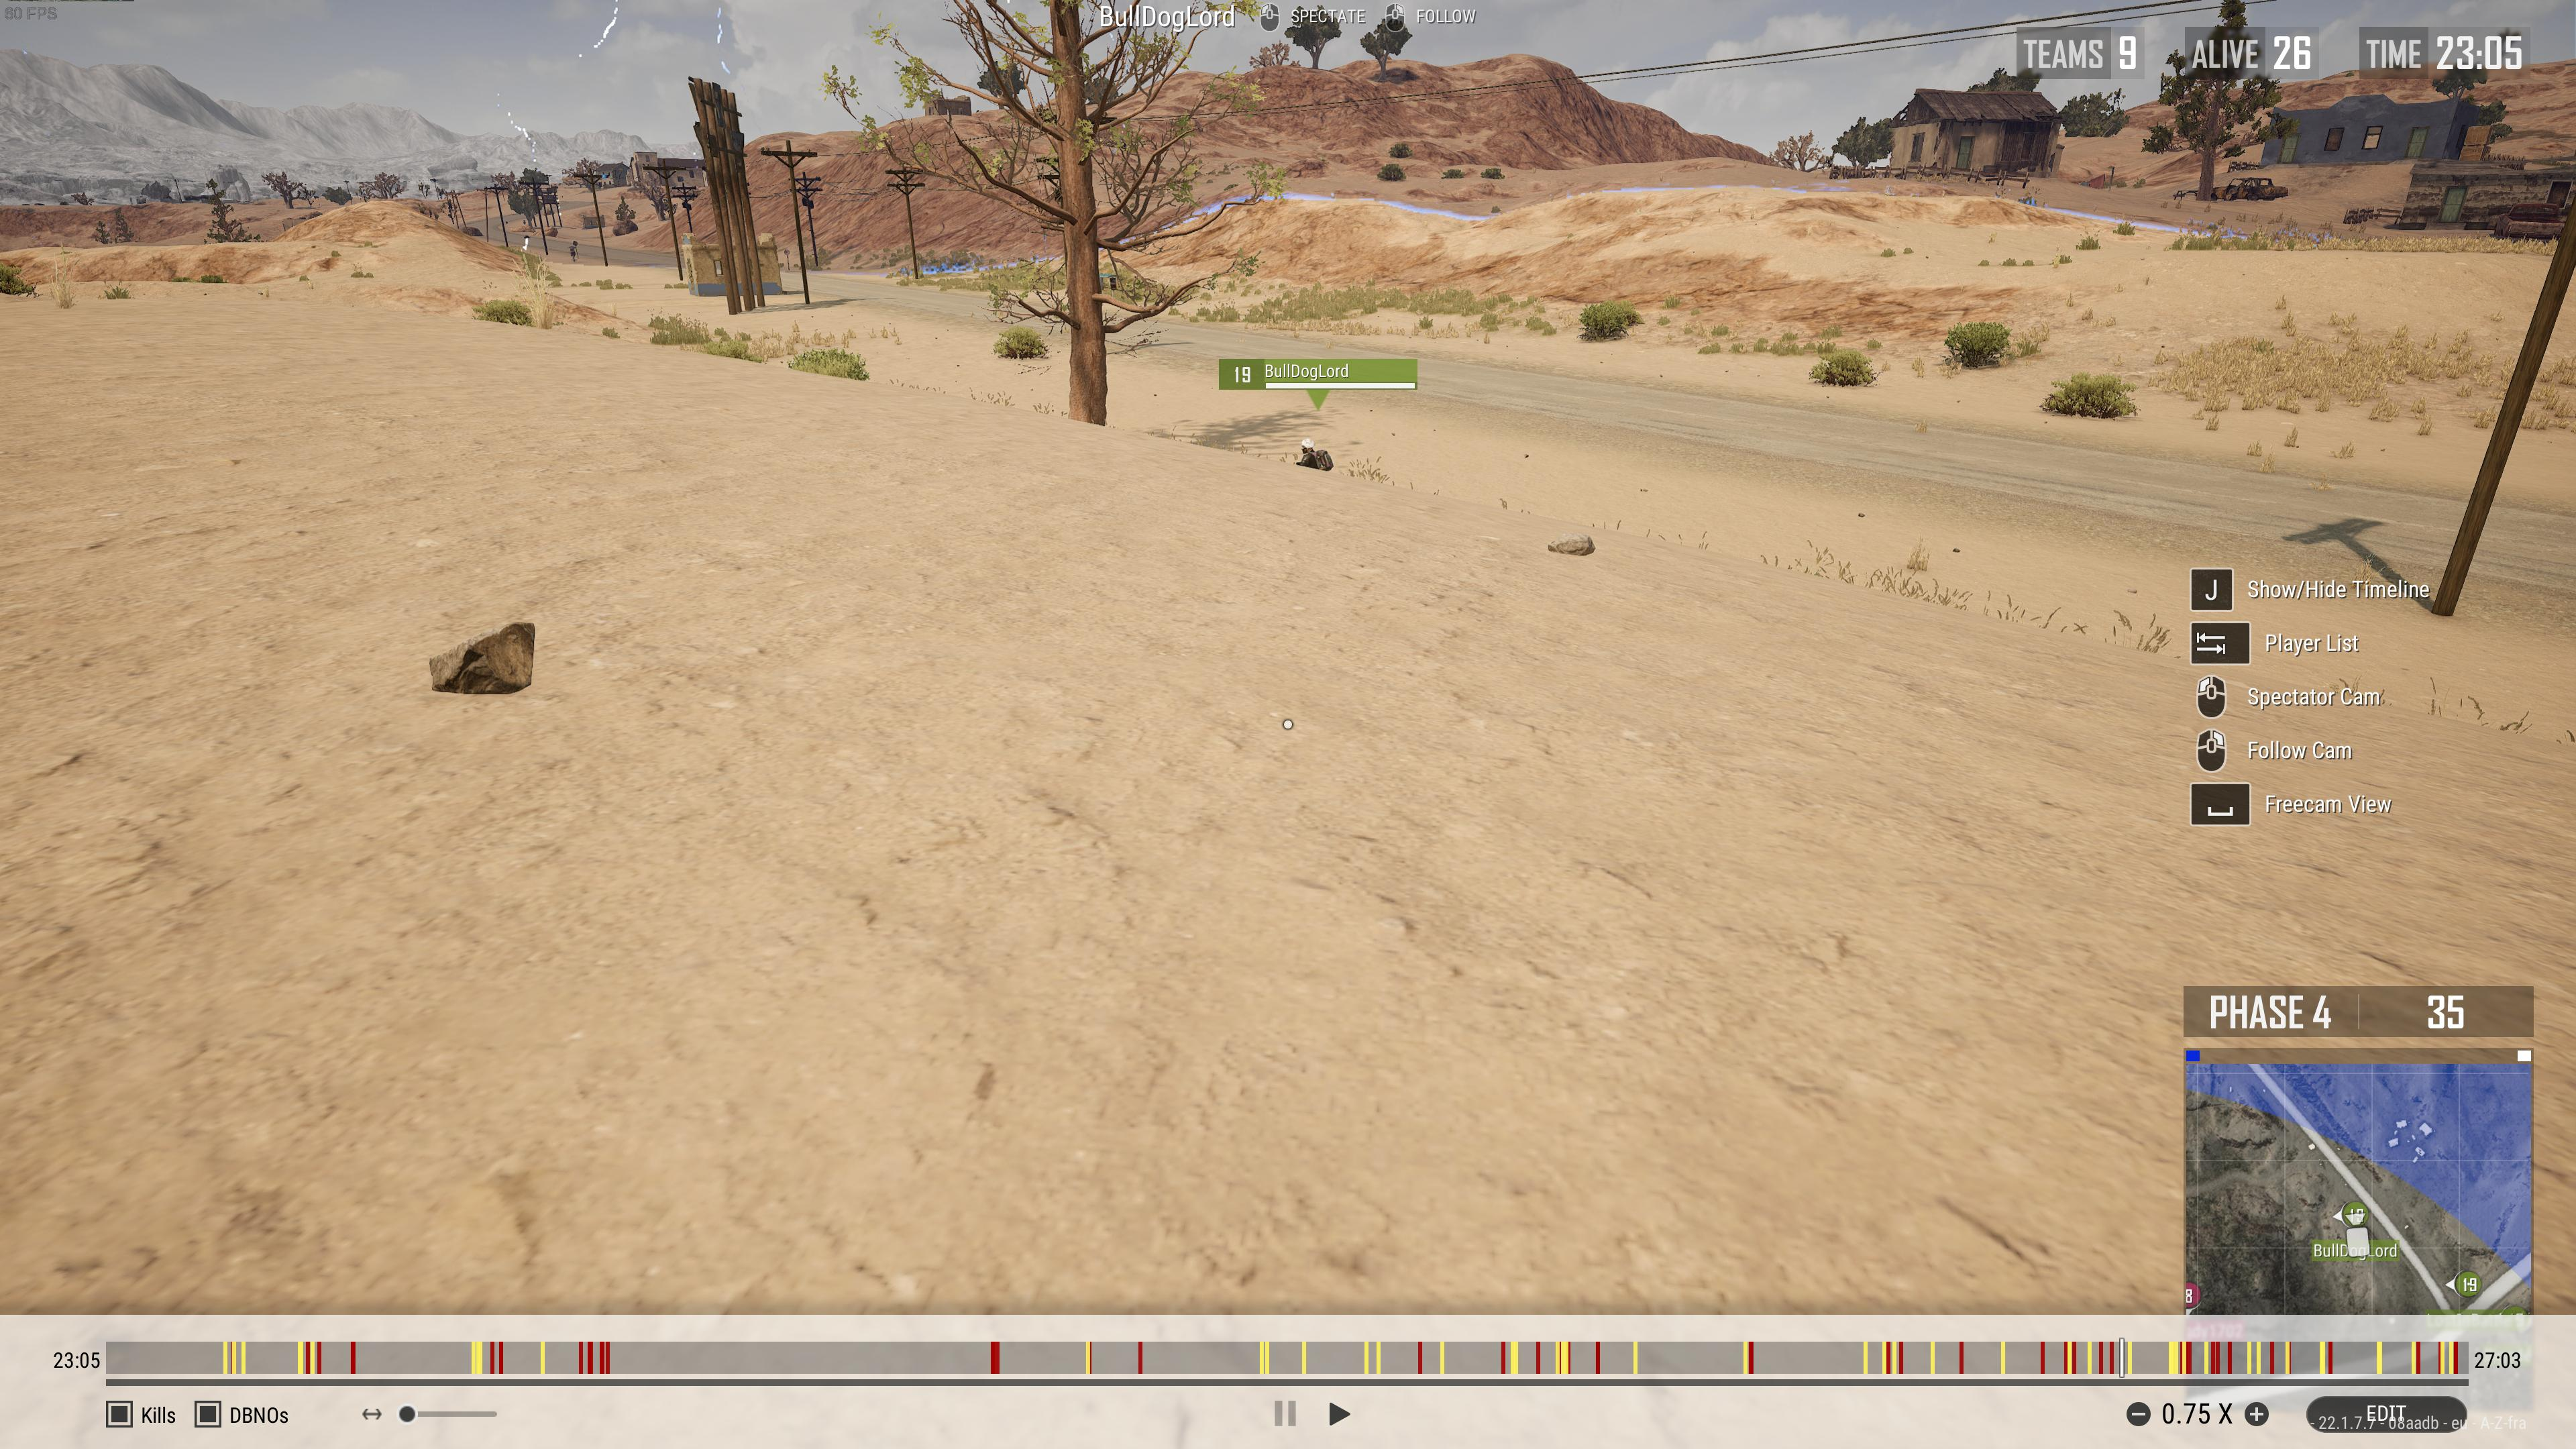enemy: (1295, 437, 1332, 471)
enemy_head: (1300, 437, 1315, 453)
